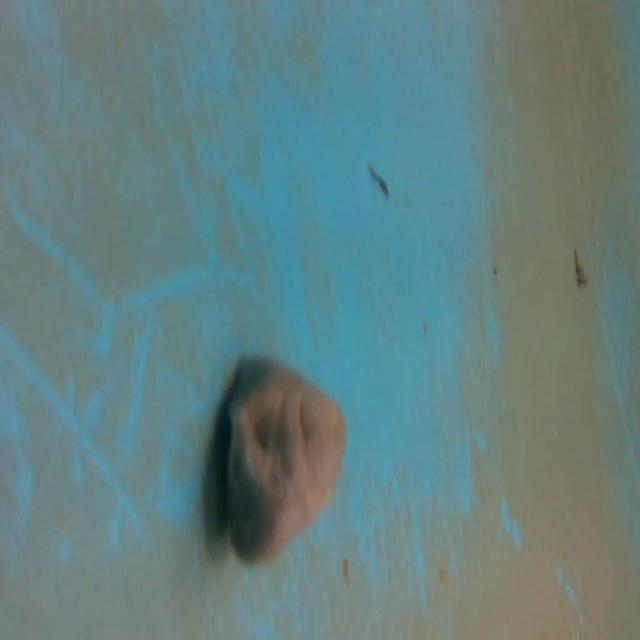rock: (215, 344, 353, 569)
